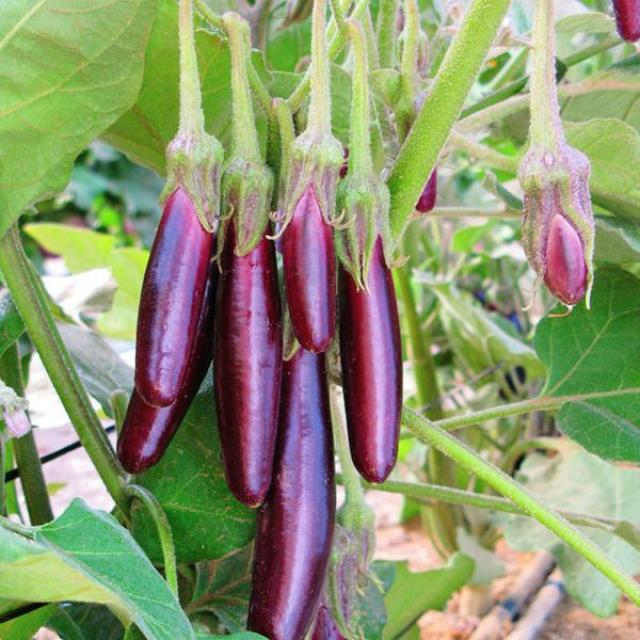eggplant: (118, 166, 219, 470), (246, 331, 337, 640), (140, 131, 225, 410), (222, 155, 286, 510), (339, 166, 406, 487), (287, 137, 342, 356), (522, 147, 593, 308)
